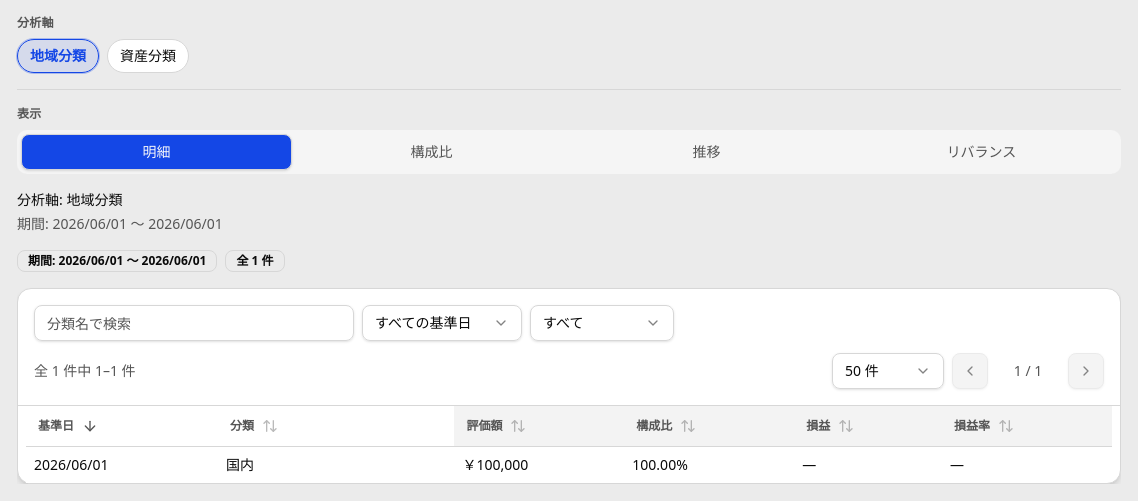
Test: AnalysisView › updates holdings detail classification values when scheme changes
This screenshot has width=1138, height=501.
Expected: the text "国内" is shown, [218,446,454,482]
Click the tab "資産分類" at (148, 56), box [107,39,189,73]
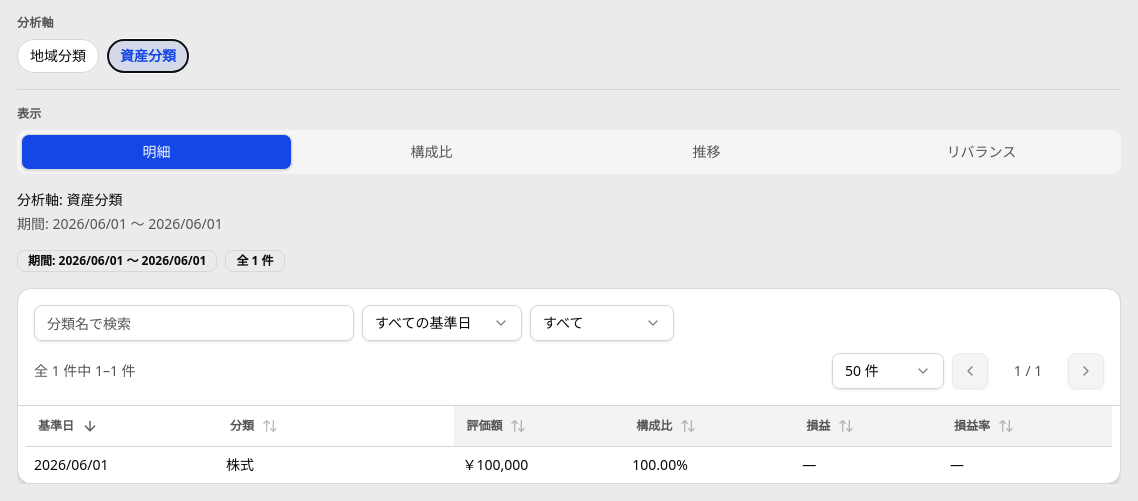
Result: the text "株式" is shown at [218,446,454,482]
Result: the text "国内" is gone
Result: the text "分析軸: 資産分類" is shown at [17,190,122,209]
